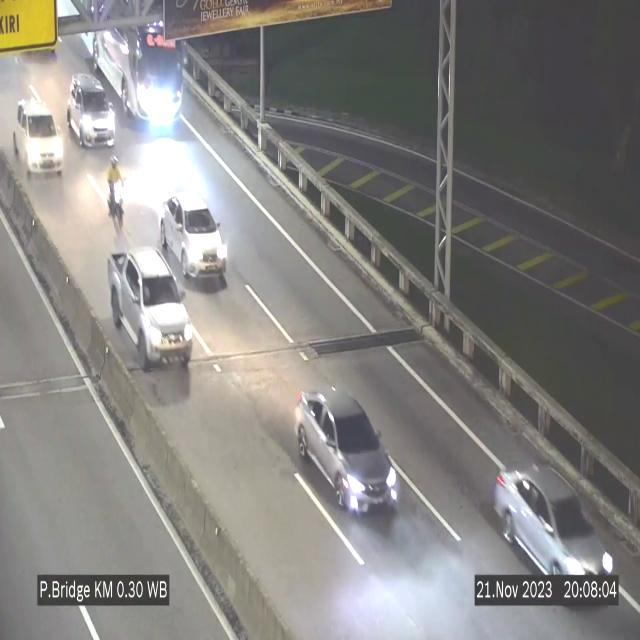Car: (296, 391, 397, 513), (108, 250, 194, 368), (160, 195, 227, 282), (10, 94, 66, 193), (67, 74, 115, 146)
Motorcycle: (106, 148, 126, 238)
